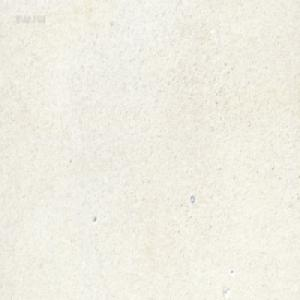Washer: (189, 194, 194, 203)
